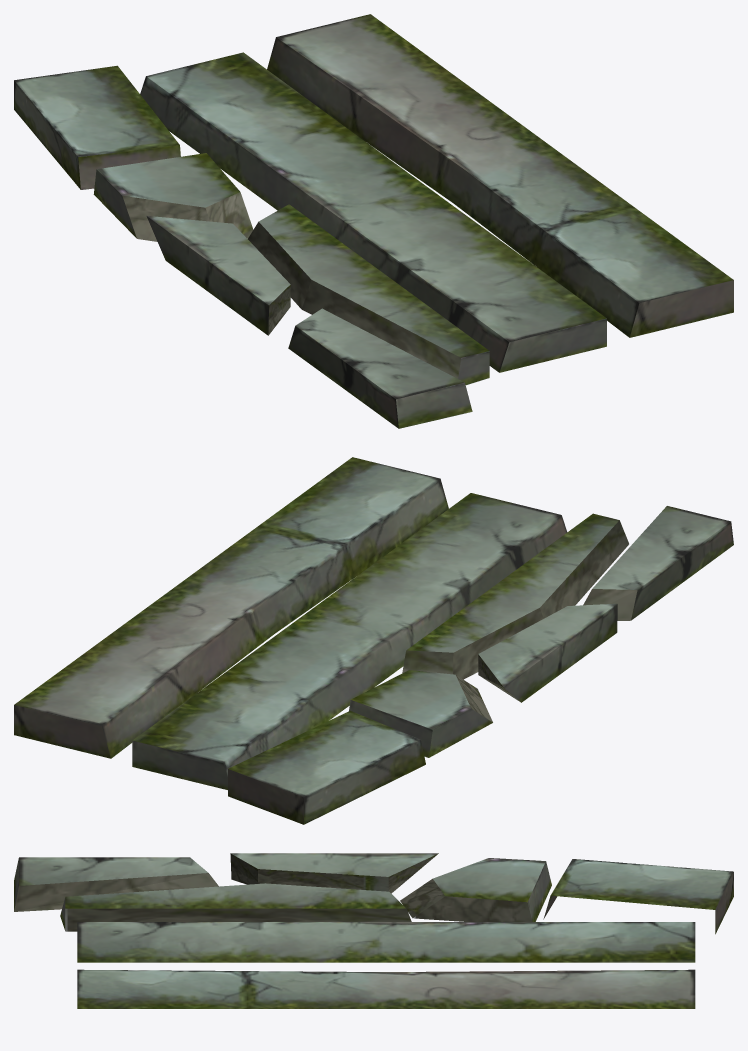
Rendered from 2_YiZhan_taijie_01.FBX.
The picture shows the model from 3 angles, top to bottom: view 1: azimuth 30°, elevation 25°; view 2: azimuth 150°, elevation 25°; view 3: azimuth 270°, elevation 25°; orthographic projection. The views are drawn at different scales.
Parts seen in each view (by area): view 1: 2_YiZhan_taijie_01_01, 2_YiZhan_taijie_01_02, 2_YiZhan_taijie_01_06, 2_YiZhan_taijie_01_03, 2_YiZhan_taijie_01_07, 2_YiZhan_taijie_01_04, 2_YiZhan_taijie_01_05; view 2: 2_YiZhan_taijie_01_01, 2_YiZhan_taijie_01_02, 2_YiZhan_taijie_01_03, 2_YiZhan_taijie_01_06, 2_YiZhan_taijie_01_07, 2_YiZhan_taijie_01_05, 2_YiZhan_taijie_01_04; view 3: 2_YiZhan_taijie_01_02, 2_YiZhan_taijie_01_01, 2_YiZhan_taijie_01_06, 2_YiZhan_taijie_01_07, 2_YiZhan_taijie_01_04, 2_YiZhan_taijie_01_03, 2_YiZhan_taijie_01_05.
Part boxes in pixels (box(x1,y1,x2,y2)): 2_YiZhan_taijie_01_01: box(267, 14, 733, 337); 2_YiZhan_taijie_01_02: box(140, 52, 606, 372); 2_YiZhan_taijie_01_06: box(248, 204, 489, 385); 2_YiZhan_taijie_01_03: box(14, 65, 180, 189); 2_YiZhan_taijie_01_07: box(288, 308, 472, 428); 2_YiZhan_taijie_01_04: box(93, 153, 253, 241); 2_YiZhan_taijie_01_05: box(146, 215, 290, 335); 2_YiZhan_taijie_01_01: box(14, 457, 448, 758); 2_YiZhan_taijie_01_02: box(132, 493, 567, 789); 2_YiZhan_taijie_01_03: box(228, 710, 425, 824); 2_YiZhan_taijie_01_06: box(402, 513, 628, 679); 2_YiZhan_taijie_01_07: box(583, 506, 733, 620); 2_YiZhan_taijie_01_05: box(478, 603, 617, 702); 2_YiZhan_taijie_01_04: box(349, 670, 492, 757); 2_YiZhan_taijie_01_02: box(77, 922, 695, 962); 2_YiZhan_taijie_01_01: box(77, 969, 695, 1008); 2_YiZhan_taijie_01_06: box(60, 883, 411, 931); 2_YiZhan_taijie_01_07: box(14, 857, 218, 911); 2_YiZhan_taijie_01_04: box(400, 858, 551, 921); 2_YiZhan_taijie_01_03: box(543, 859, 733, 934); 2_YiZhan_taijie_01_05: box(230, 853, 438, 893).
Size of the model in its own units: 266 by 24.18 by 520.
